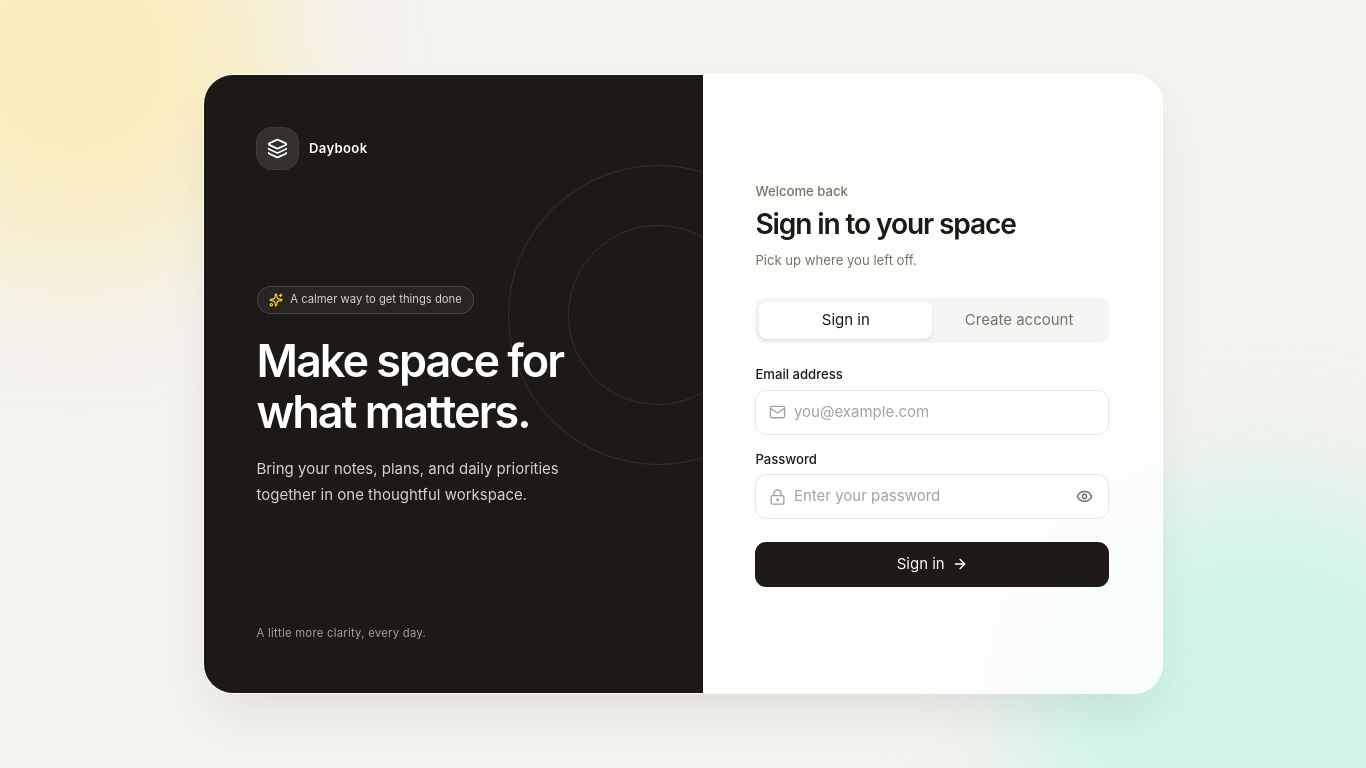
Test: LoginScreen › asks users to confirm their account from email when required
Click the button "Create account".
click(1019, 320)  # box [932,302,1106,339]
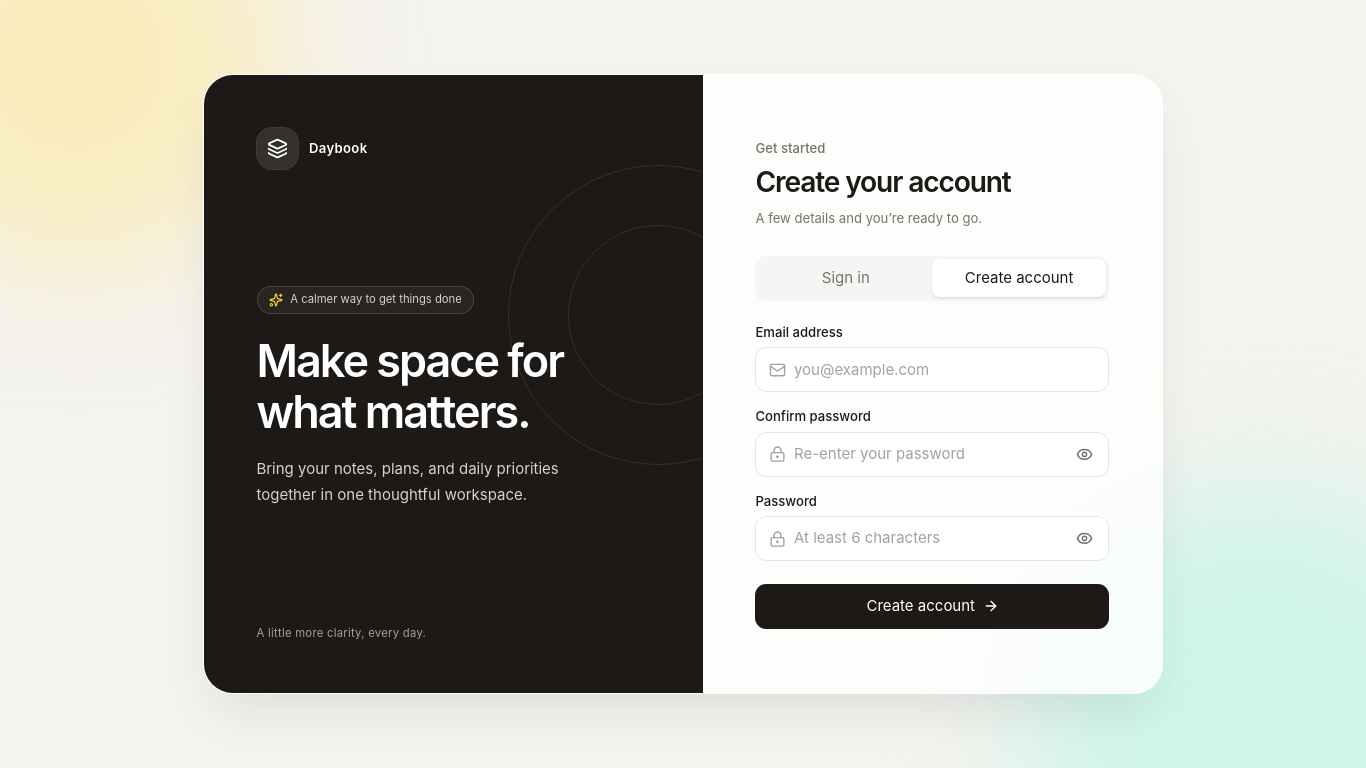
Type "visitor@example.com" into the field labelled "Email address".
click(932, 370); type("visitor@example.com")  # box [756,347,1110,392]
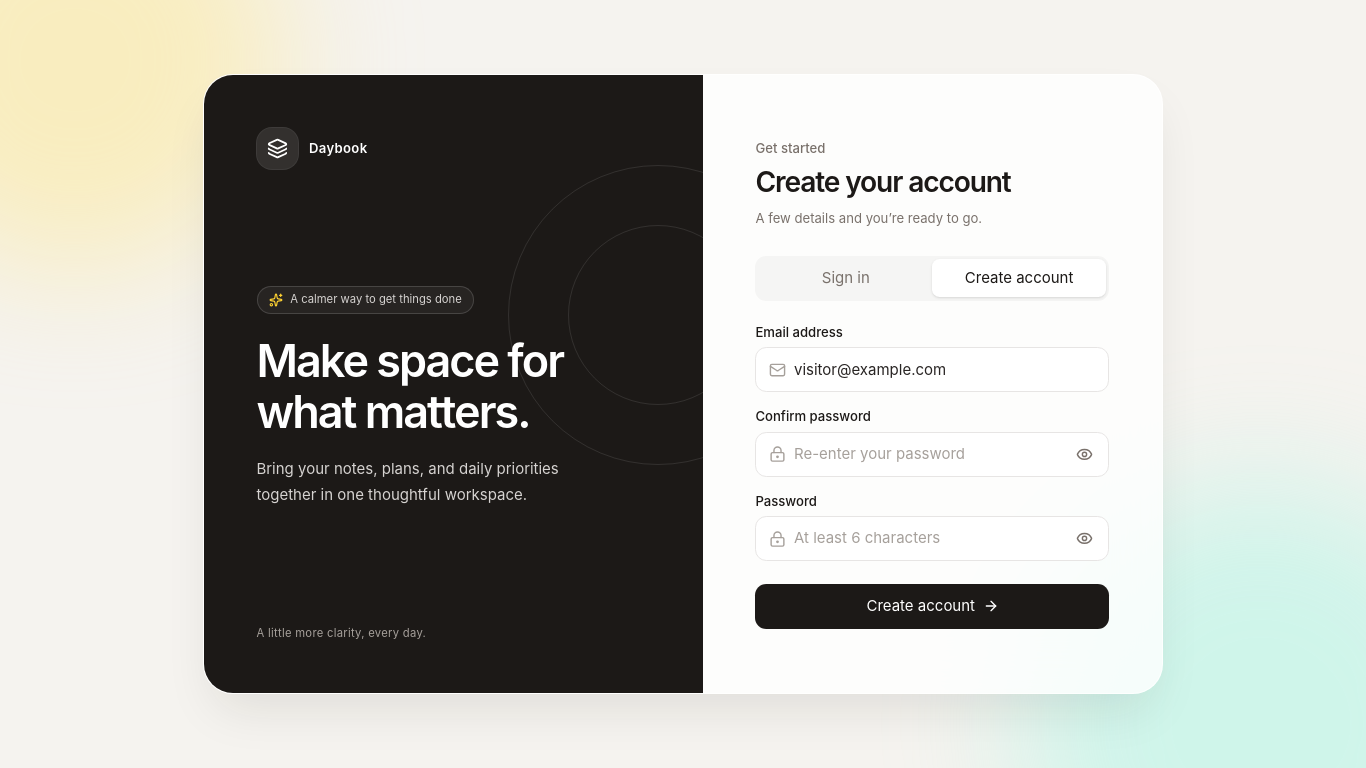
Type "secret1" into the password field labelled "Password".
click(932, 539); type("secret1")  # box [756,516,1110,561]
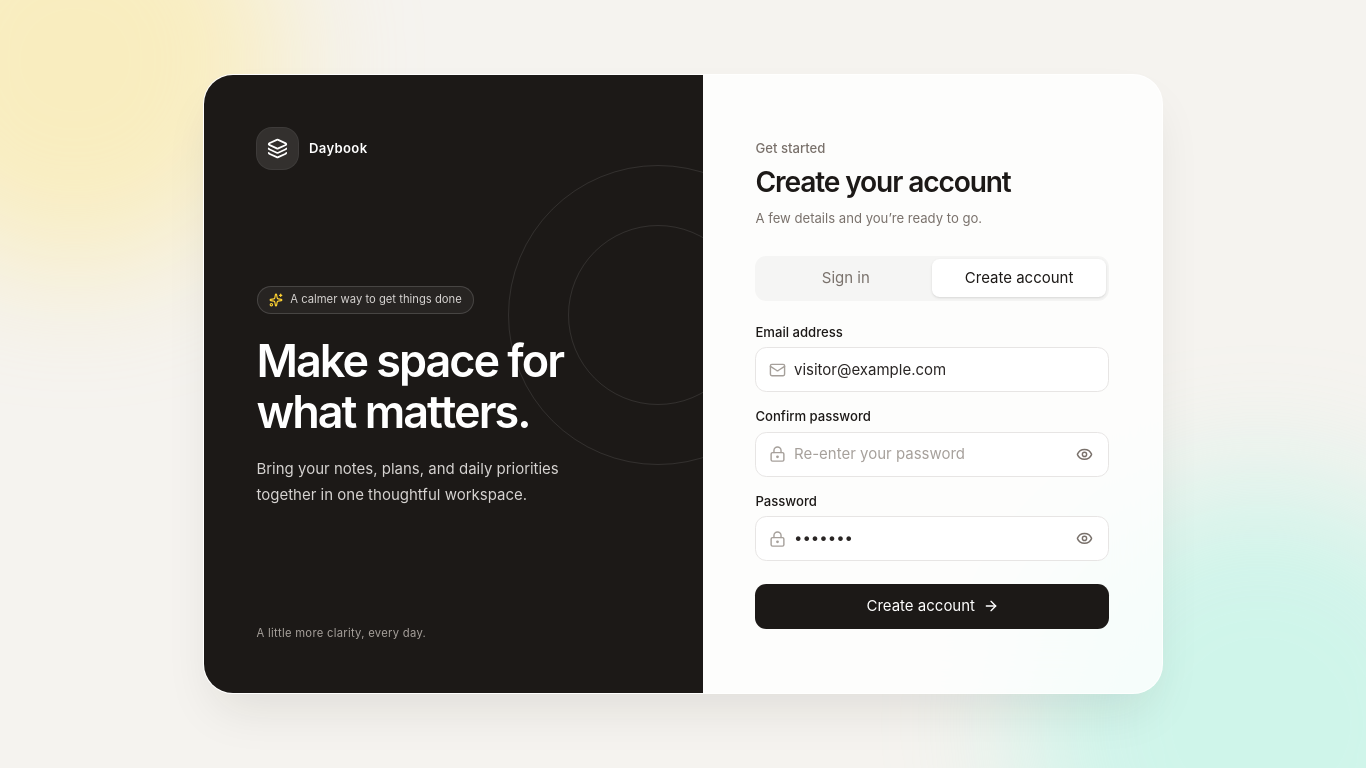
Type "secret1" into the password field labelled "Confirm password".
click(932, 454); type("secret1")  # box [756,432,1110,477]
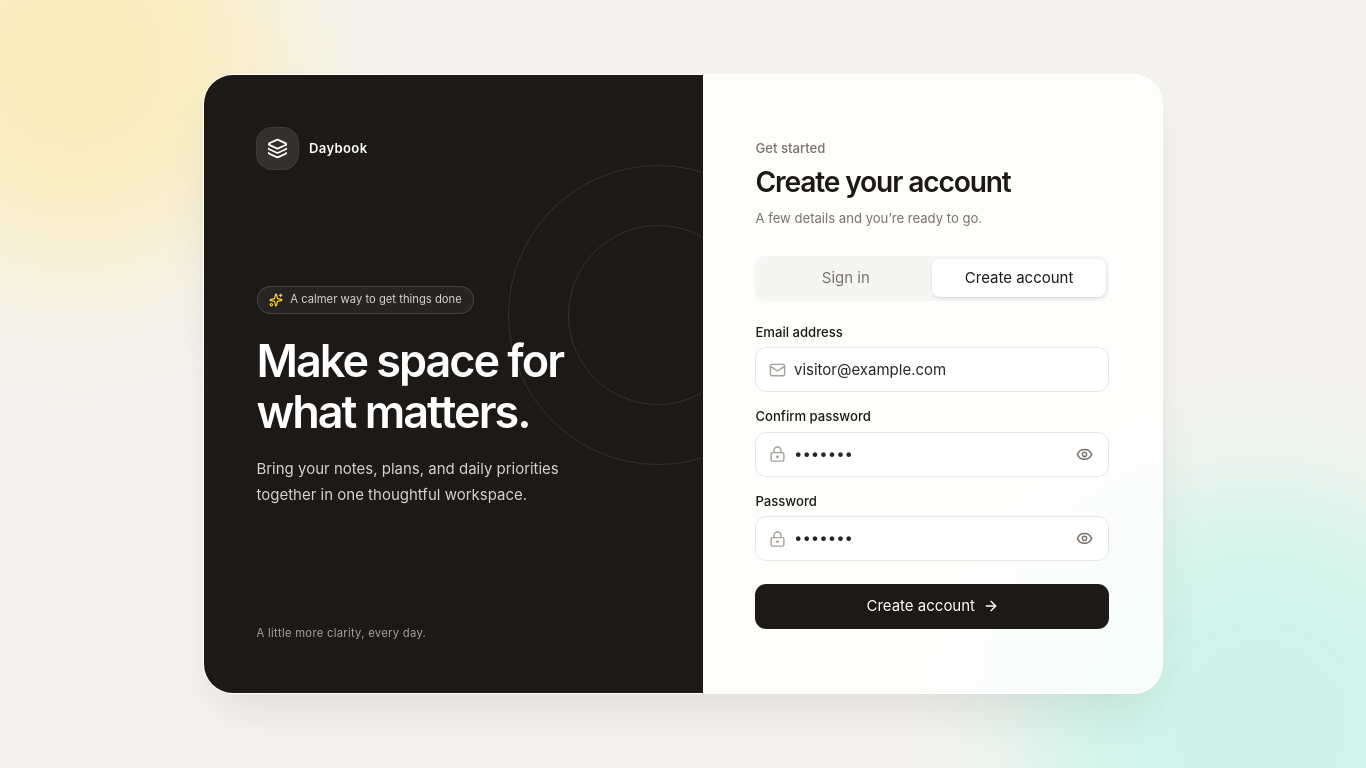
Submit the form labelled "Email address", box [756,323,1110,629]
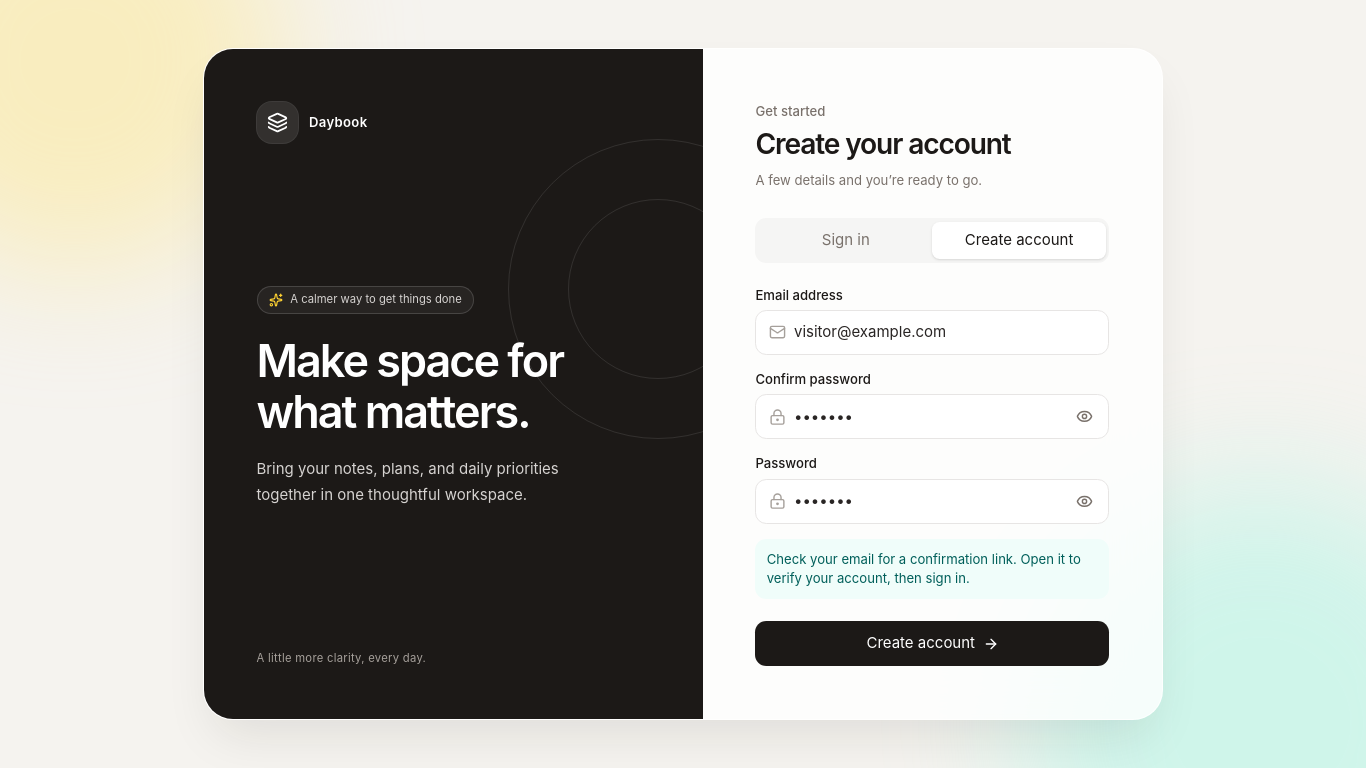
Check: the message shows "Check your email for a confirmation link", box [767,551,1081,586]
